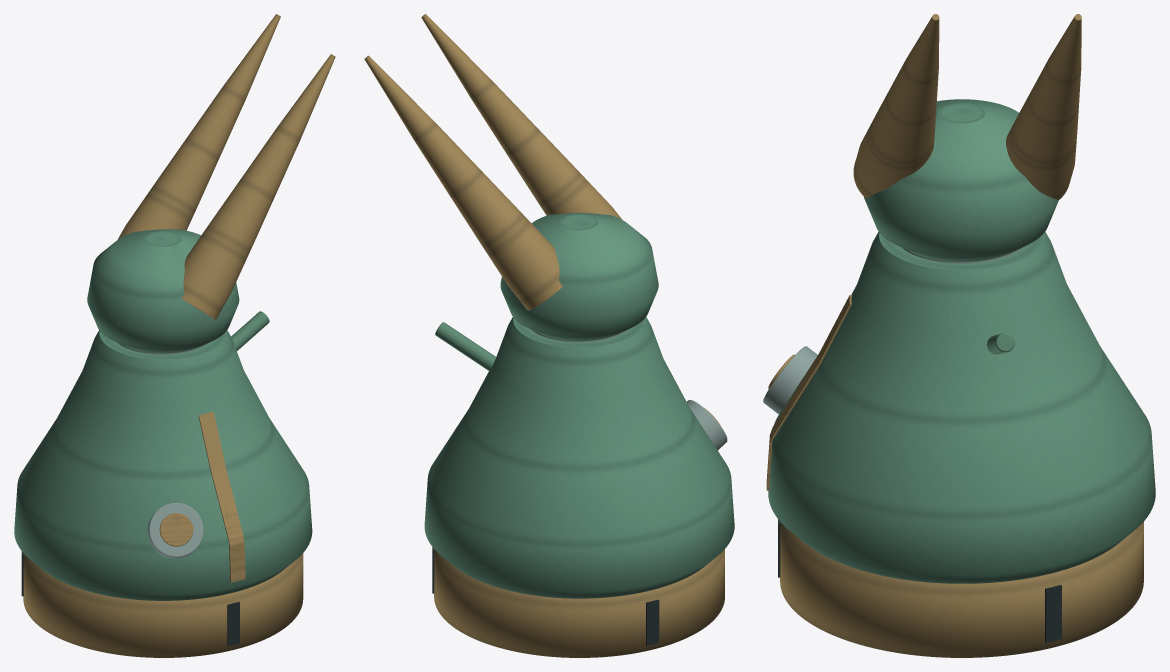
3 renders of one model, left to right at view 1: azimuth 30°, elevation 25°; view 2: azimuth 150°, elevation 25°; view 3: azimuth 270°, elevation 25°, orthographic. The views are drawn at different scales.
Parts seen in each view (by area): view 1: RI23 fixed green pedestal, RI23 fixed bronze skirt, RI23 rotating green head, RI23 bronze lance -1, RI23 bronze lance 1, RI23 bronze front strip, RI23 base fitting bezel, RI23 bronze base fitting, RI23 fixed green spur, RI23 lower base inset 0; view 2: RI23 fixed green pedestal, RI23 fixed bronze skirt, RI23 rotating green head, RI23 bronze lance 1, RI23 bronze lance -1, RI23 fixed green spur, RI23 base fitting bezel, RI23 lower base inset 2; view 3: RI23 fixed green pedestal, RI23 fixed bronze skirt, RI23 rotating green head, RI23 bronze lance -1, RI23 bronze lance 1, RI23 base fitting bezel, RI23 bronze front strip, RI23 lower base inset 1.
Part boxes in pixels (x1,y1,x2,y2): RI23 fixed green pedestal: (14, 330, 312, 600); RI23 fixed bronze skirt: (23, 553, 303, 657); RI23 rotating green head: (87, 229, 239, 353); RI23 bronze lance -1: (181, 54, 335, 319); RI23 bronze lance 1: (118, 14, 280, 239); RI23 bronze front strip: (198, 411, 245, 582); RI23 base fitting bezel: (147, 502, 203, 558); RI23 bronze base fitting: (159, 513, 193, 546); RI23 fixed green spur: (231, 311, 269, 350); RI23 lower base inset 0: (227, 602, 239, 646); RI23 fixed green pedestal: (424, 317, 734, 598); RI23 fixed bronze skirt: (434, 549, 724, 657); RI23 rotating green head: (500, 212, 658, 341); RI23 bronze lance 1: (364, 55, 562, 310); RI23 bronze lance -1: (421, 14, 621, 219); RI23 fixed green spur: (435, 322, 495, 370); RI23 base fitting bezel: (687, 400, 727, 450); RI23 lower base inset 2: (646, 599, 659, 645); RI23 fixed green pedestal: (768, 231, 1155, 583); RI23 fixed bronze skirt: (780, 522, 1143, 657); RI23 rotating green head: (863, 99, 1058, 261); RI23 bronze lance -1: (853, 14, 939, 198); RI23 bronze lance 1: (1006, 14, 1081, 199); RI23 base fitting bezel: (763, 346, 817, 414); RI23 bronze front strip: (766, 295, 851, 490); RI23 lower base inset 1: (1045, 585, 1061, 642).
Bounding box in the file's own units: 1.1 × 1.9 × 0.9927.
Materials: 7 (4 with a texture image).
